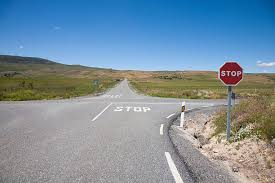stop sign: (217, 62, 243, 86)
